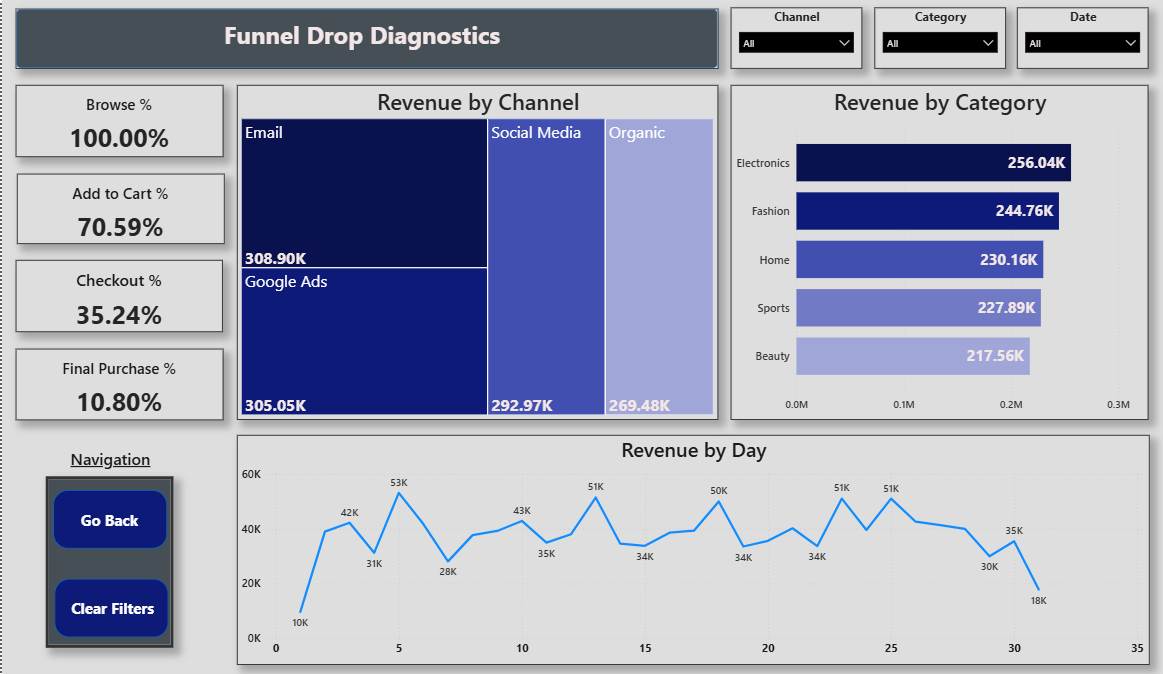

The dashboard page shown, as its layout file describes it:
{"tool":"powerbi","page":{"name":"Page 2","canvas":[1600,900],"ordinal":1},"visuals":[{"type":"shape","box":[18.3,11.7,936.7,80],"z":0},{"type":"textbox","box":[18.3,20,923.3,63.3],"z":1000},{"type":"cardVisual","fields":{"Data":["funnel_analysis_data.%_browse"]},"box":[18.1,113.9,276.6,95.8],"z":2000},{"type":"cardVisual","fields":{"Data":["funnel_analysis_data.%_add_to_cart"]},"box":[19.9,231.4,276.6,94],"z":3000},{"type":"cardVisual","fields":{"Data":["funnel_analysis_data.%_checkout"]},"box":[18,347,276,96],"z":4000},{"type":"cardVisual","fields":{"Data":["funnel_analysis_data.%_purchase"]},"box":[18.3,465,276.7,95],"z":5000},{"type":"treemap","title":"Revenue by Channel","fields":{"Group":["funnel_analysis_data.Channel"],"Values":["Sum(funnel_analysis_data.Revenue)"]},"box":[312.7,113.9,641.7,446.5],"z":6000},{"type":"lineChart","title":"Revenue by Day","fields":{"Y":["Sum(funnel_analysis_data.Revenue)"],"Category":["funnel_analysis_data.Date.Variation.Date Hierarchy.Day"]},"box":[313.3,580,1216.7,306.7],"z":7000},{"type":"clusteredBarChart","title":"Revenue by Category","fields":{"Category":["funnel_analysis_data.Product_Category"],"Y":["Sum(funnel_analysis_data.Revenue)"]},"box":[972.4,113.9,556.7,446.5],"z":8000},{"type":"shape","box":[58.9,635.8,170.2,228.5],"z":9000},{"type":"shape","box":[68.7,653.9,151.8,78.2],"z":10000},{"type":"actionButton","box":[81.7,666.7,123.3,53.3],"z":11000},{"type":"shape","box":[70.2,771.3,151.8,78.2],"z":12000},{"type":"textbox","box":[63.3,591.1,162.7,45.2],"z":13000},{"type":"actionButton","box":[81.7,778.3,131.7,65],"z":14000},{"type":"slicer","title":"Channel","fields":{"Values":["funnel_analysis_data.Channel"]},"box":[971.7,10,175,81.7],"z":15000},{"type":"slicer","title":"Category","fields":{"Values":["funnel_analysis_data.Channel","funnel_analysis_data.Product_Category"]},"box":[1163.3,10,175,81.7],"z":16000},{"type":"slicer","title":"Date","fields":{"Values":["funnel_analysis_data.Date.Variation.Date Hierarchy.Day"]},"box":[1353.3,10,175,81.7],"z":16001}]}

Visuals, with their boxes in screenshot pixels (x1, y1, x2, y2), scaled from the page's 1600x900 canvas onto the 1163x674 screenshot:
shape: Rect(13, 9, 694, 69)
textbox: Rect(13, 15, 684, 62)
cardVisual - funnel_analysis_data.%_browse: Rect(13, 85, 214, 157)
cardVisual - funnel_analysis_data.%_add_to_cart: Rect(14, 173, 216, 244)
cardVisual - funnel_analysis_data.%_checkout: Rect(13, 260, 214, 332)
cardVisual - funnel_analysis_data.%_purchase: Rect(13, 348, 214, 419)
"Revenue by Channel" treemap: Rect(227, 85, 694, 420)
"Revenue by Day" lineChart: Rect(228, 434, 1112, 664)
"Revenue by Category" clusteredBarChart: Rect(707, 85, 1111, 420)
shape: Rect(43, 476, 167, 647)
shape: Rect(50, 490, 160, 548)
actionButton: Rect(59, 499, 149, 539)
shape: Rect(51, 578, 161, 636)
textbox: Rect(46, 443, 164, 477)
actionButton: Rect(59, 583, 155, 632)
"Channel" slicer: Rect(706, 7, 834, 69)
"Category" slicer: Rect(846, 7, 973, 69)
"Date" slicer: Rect(984, 7, 1111, 69)
